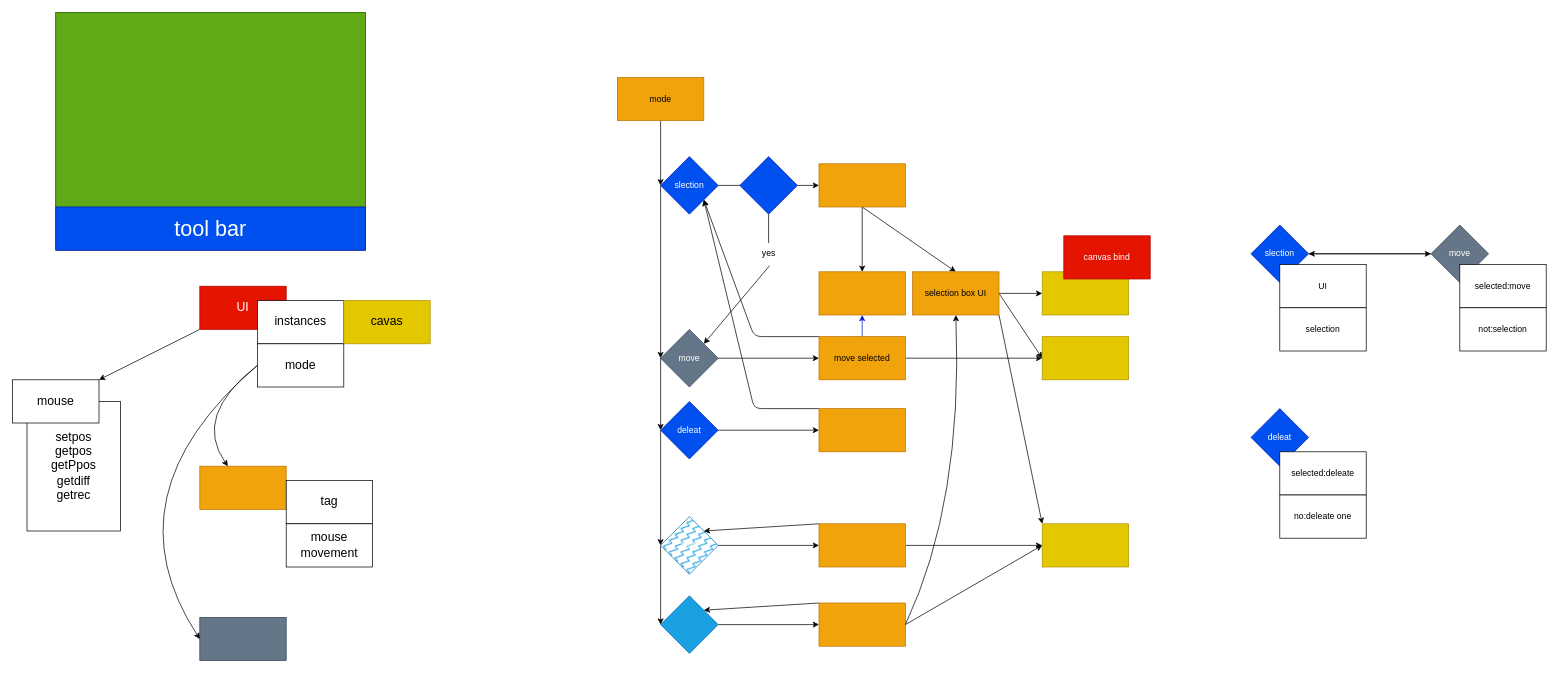
Image size: 1559x673. Some labels were removed from this diagram. The shapes that lost their labels are listed below. From the top down, each one's centre as x and y in pixels, then its label:
point 210,109: canbas
point 768,185: on ui
point 861,185: selection box OR one object select
point 861,293: selection box tag
point 1085,293: click
point 1085,358: motion
point 861,430: deleate selected
point 242,487: canvas manager
point 861,545: create text box
point 1085,545: rerease
point 242,639: label manager
point 689,624: rectangle ++++
point 861,624: draw by mouse no moving
